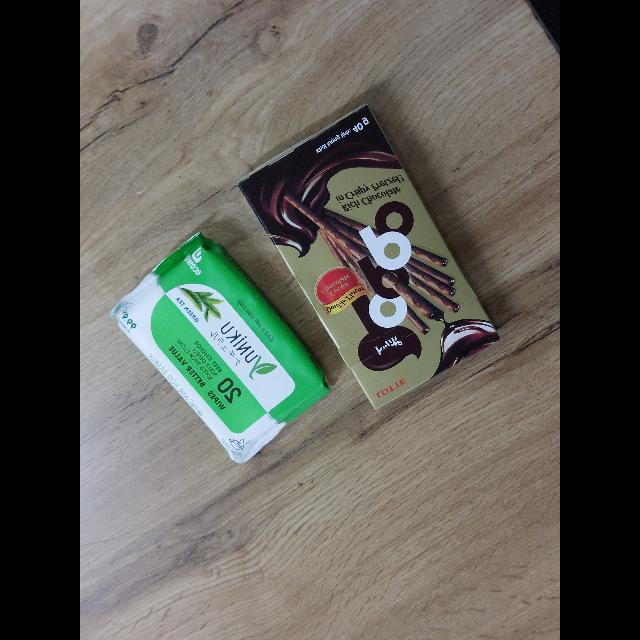banh_toppo_socola: (239, 105, 499, 408)
khan_giay: (111, 233, 330, 463)
